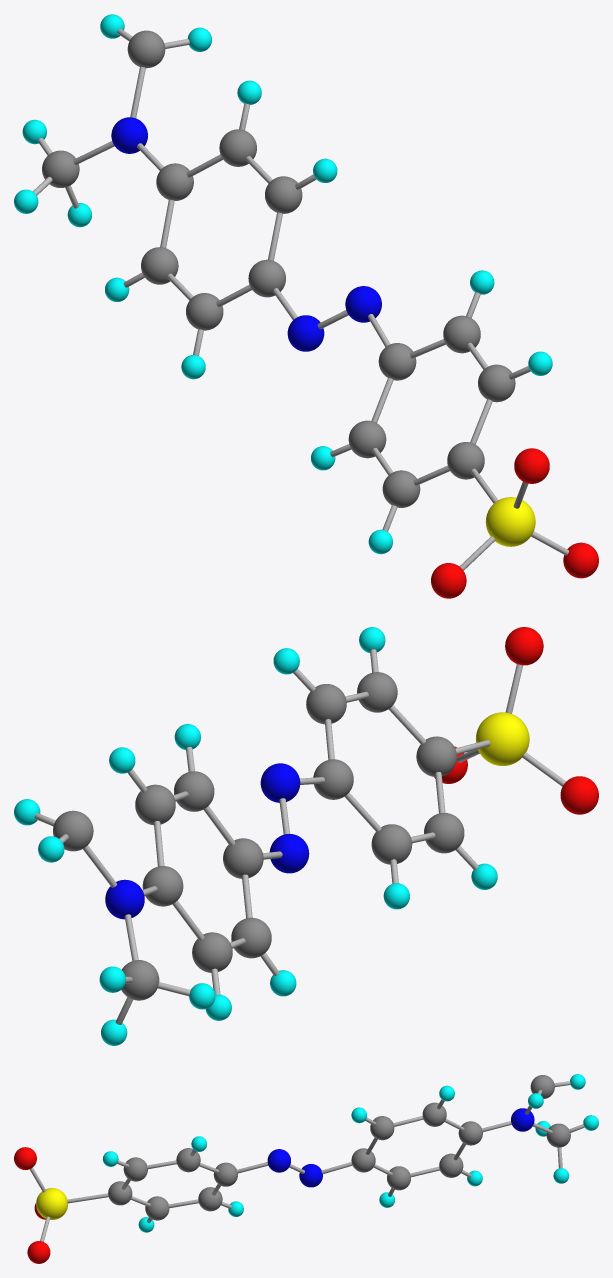
Rendered from methyl orange.glb.
3 views of the same model, one above another, from view 1: azimuth 30°, elevation 25°; view 2: azimuth 150°, elevation 25°; view 3: azimuth 270°, elevation 25° (orthographic). The views are drawn at different scales.
Parts seen in each view (by area): view 1: CMAtom_242, CMAtom_5, CMAtom_131, CMAtom_123, CMAtom_79, CMAtom_107, CMAtom_115, CMAtom_83, CMAtom_87, CMAtom_127, CMAtom_135, CMAtom_111 (+9 smaller); view 2: CMAtom_242, CMAtom_135, CMAtom_75, CMAtom_83, CMAtom_111, CMAtom_119, CMAtom_127, CMAtom_123, CMAtom_107, CMAtom_115, CMAtom_131, CMAtom_87 (+16 smaller); view 3: CMAtom_242, CMAtom_123, CMAtom_79, CMAtom_135, CMAtom_103, CMAtom_127, CMAtom_131, CMAtom_83, CMAtom_87, CMAtom_107, CMAtom_111, CMAtom_115 (+8 smaller).
Part boxes in pixels (<box>): CMAtom_242: <box>485,497,535,546</box>; CMAtom_5: <box>127,30,165,68</box>; CMAtom_131: <box>265,176,302,213</box>; CMAtom_123: <box>382,470,420,507</box>; CMAtom_79: <box>156,163,193,200</box>; CMAtom_107: <box>478,364,515,402</box>; CMAtom_115: <box>378,343,416,380</box>; CMAtom_83: <box>141,247,178,284</box>; CMAtom_87: <box>186,293,223,330</box>; CMAtom_127: <box>248,259,285,297</box>; CMAtom_135: <box>219,129,256,166</box>; CMAtom_111: <box>443,315,480,353</box>; CMAtom_242: <box>475,712,529,765</box>; CMAtom_135: <box>135,784,175,825</box>; CMAtom_75: <box>416,736,456,776</box>; CMAtom_83: <box>192,932,232,972</box>; CMAtom_111: <box>306,684,346,724</box>; CMAtom_119: <box>371,824,412,864</box>; CMAtom_127: <box>223,838,263,878</box>; CMAtom_123: <box>424,812,464,853</box>; CMAtom_107: <box>357,672,397,712</box>; CMAtom_115: <box>313,759,353,799</box>; CMAtom_131: <box>174,771,214,811</box>; CMAtom_87: <box>231,917,271,958</box>; CMAtom_242: <box>36,1188,67,1219</box>; CMAtom_123: <box>145,1196,169,1220</box>; CMAtom_79: <box>458,1121,482,1145</box>; CMAtom_135: <box>422,1102,446,1126</box>; CMAtom_103: <box>546,1123,570,1147</box>; CMAtom_127: <box>351,1148,375,1172</box>; CMAtom_131: <box>370,1116,394,1140</box>; CMAtom_83: <box>439,1153,463,1177</box>; CMAtom_87: <box>387,1166,410,1190</box>; CMAtom_107: <box>123,1157,147,1181</box>; CMAtom_111: <box>176,1148,200,1172</box>; CMAtom_115: <box>213,1162,237,1186</box>.
Bounding box in the file's own units: 3.97 × 5.02 × 14.88.
